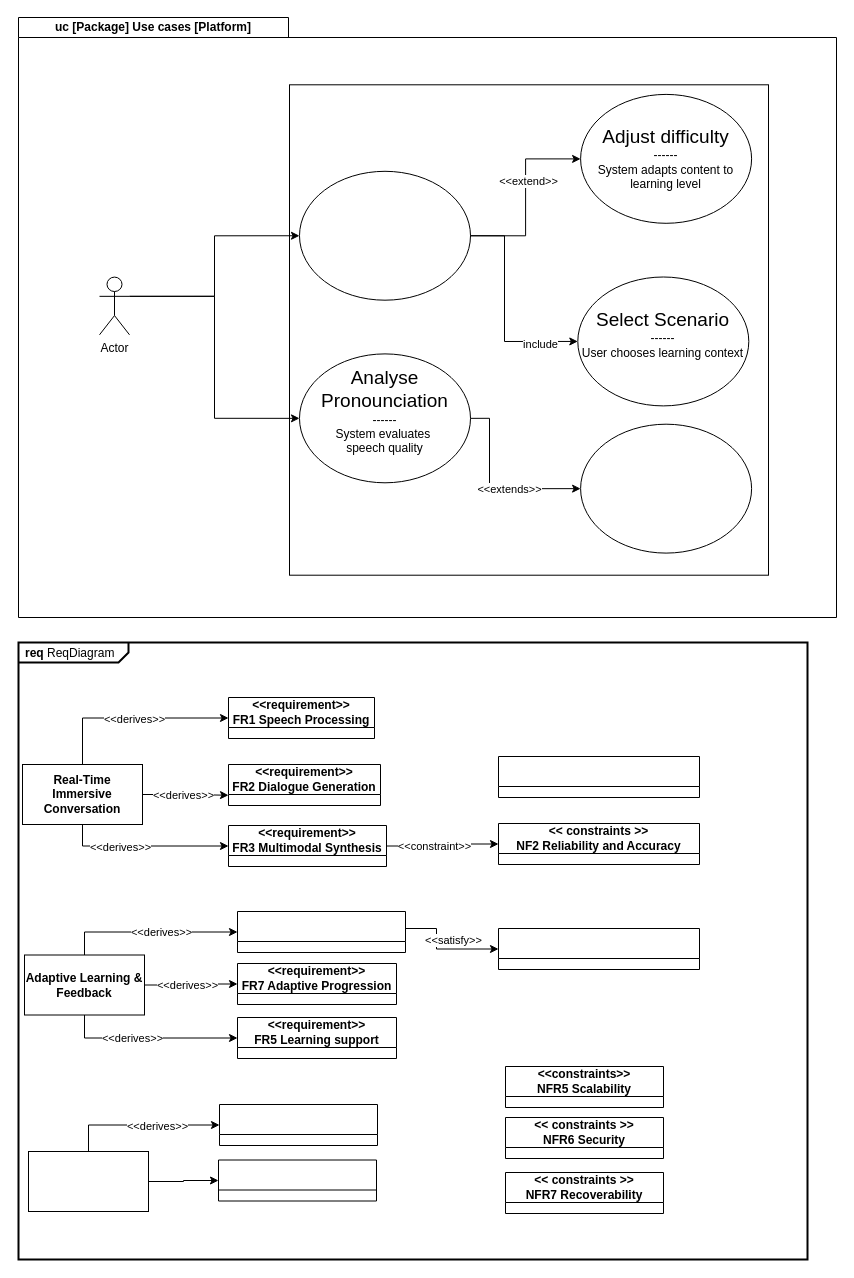
Image size: 854x1278. Some labels were removed from this diagram. The shapes that lost their labels are listed below. From the top down, each one's centre as x and y in pixels, then its label:
At (x=384, y=235): "Practice conversation ------ User engages dialogue with AI character".
At (x=666, y=488): "Track progress ------ System records Learning metrics".
At (x=599, y=777): "<< constraints >> NF1 Performance and Latency".
At (x=321, y=931): "<<requirement>> FR4 Pronunciation Analysis".
At (x=599, y=949): "<< constraints >> NF3 Usability Feedback".
At (x=298, y=1125): "<<requirement>> FR7 Persistence".
At (x=88, y=1181): "System Access & Progression Tracking".
At (x=297, y=1180): "<<requirement>> FR8 Identity Management".
